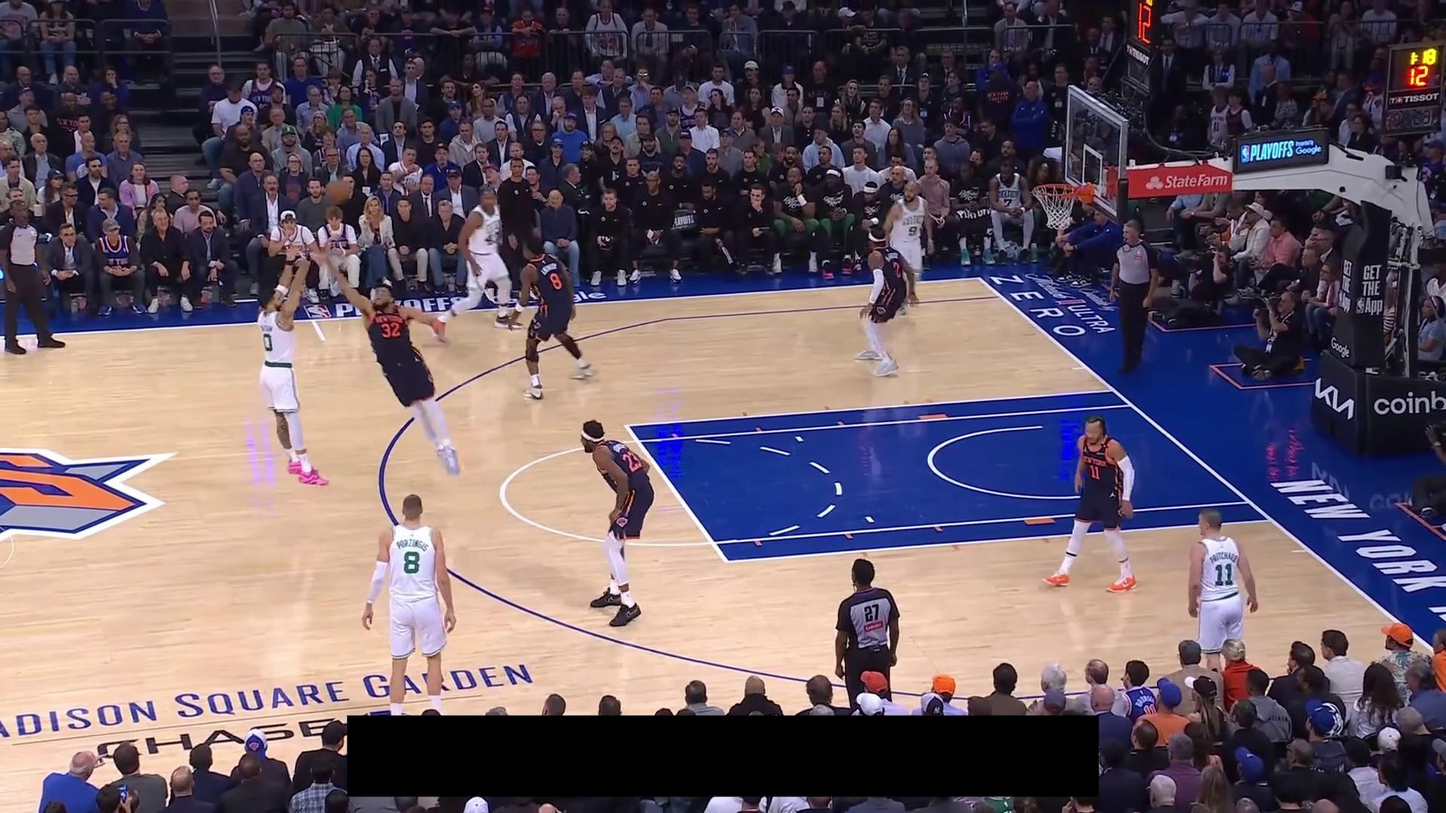ball: (326, 180, 350, 204)
number: (622, 449, 642, 473), (1214, 562, 1233, 586), (403, 550, 421, 575), (380, 321, 401, 338), (484, 230, 501, 246), (549, 272, 563, 291), (1089, 464, 1101, 480), (263, 333, 273, 352), (908, 224, 919, 238), (892, 261, 901, 278)
player: (361, 492, 459, 717), (1042, 415, 1139, 592), (578, 417, 657, 629), (507, 234, 598, 401), (431, 184, 523, 345), (1185, 507, 1261, 674), (853, 226, 919, 378), (881, 179, 935, 317)
player-jump-shot: (252, 246, 329, 489)
player-shot-block: (313, 240, 464, 479)
referee: (0, 200, 67, 355), (834, 556, 901, 711), (1108, 218, 1161, 374)
rim: (1032, 182, 1079, 198)
